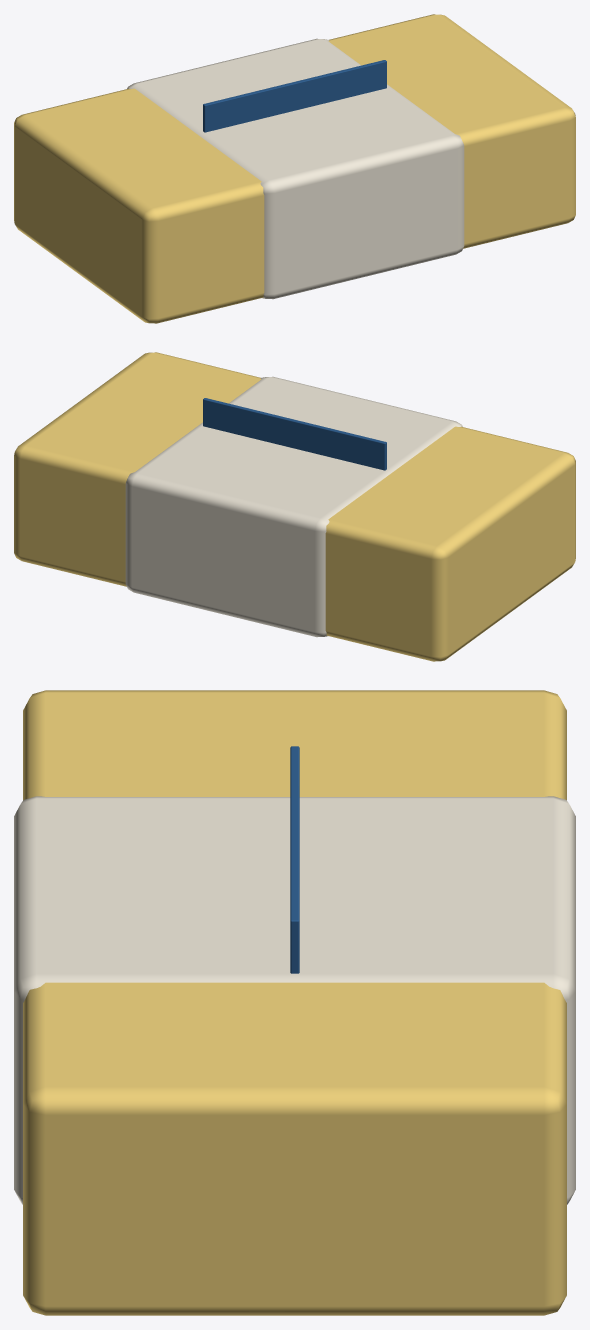
The model's file is wp-plaquette-de-beurre.glb.
3 renders of one model, top to bottom at view 1: azimuth 30°, elevation 25°; view 2: azimuth 150°, elevation 25°; view 3: azimuth 270°, elevation 25°, orthographic. The views are drawn at different scales.
Parts seen in each view (by area): view 1: wp-plaquette-de-beurre; view 2: wp-plaquette-de-beurre; view 3: wp-plaquette-de-beurre.
Part boxes in pixels (box(x1,y1,x2,y2)): wp-plaquette-de-beurre: box(14, 14, 575, 323); wp-plaquette-de-beurre: box(14, 352, 575, 661); wp-plaquette-de-beurre: box(14, 690, 575, 1315).
Size of the model in its own units: 0.14 by 0.045 by 0.08.
